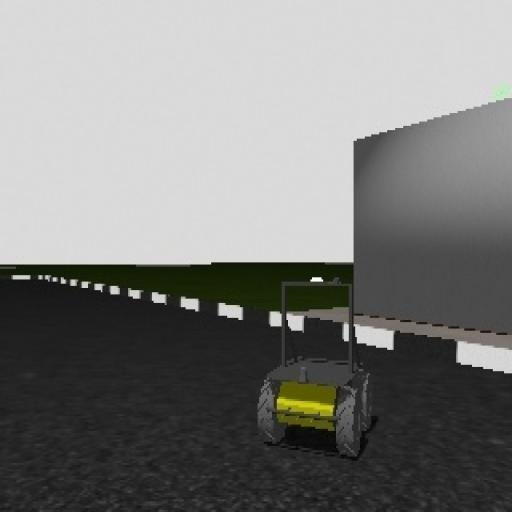huskya200: (238, 264, 380, 463)
